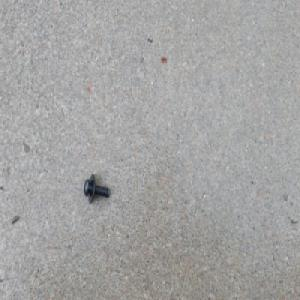BoltWasher: (82, 173, 109, 203)
